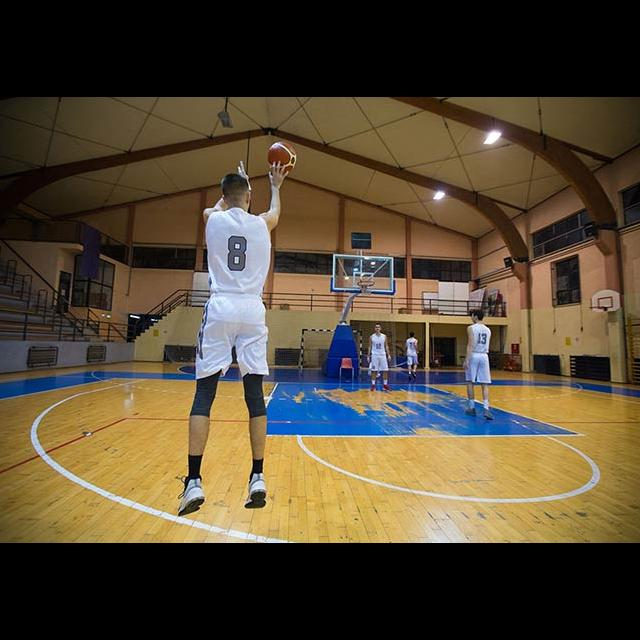basketball: (269, 140, 298, 172)
hoop: (358, 279, 375, 298), (589, 305, 607, 320)
